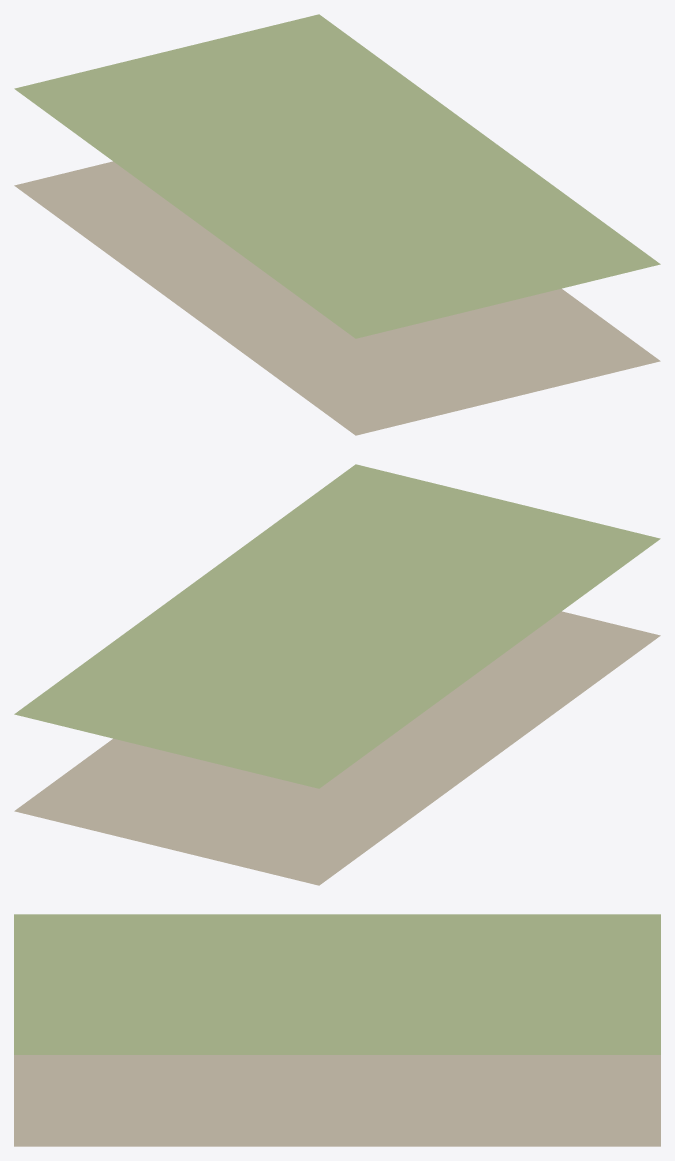
3 renders of one model, top to bottom at view 1: azimuth 30°, elevation 25°; view 2: azimuth 150°, elevation 25°; view 3: azimuth 270°, elevation 25°, orthographic. The views are drawn at different scales.
Visible parts, largest first — view 1: s_12_3__grass, s_12_3__soil; view 2: s_12_3__grass, s_12_3__soil; view 3: s_12_3__grass, s_12_3__soil.
Part boxes in pixels (x1,y1,x2,y2): s_12_3__grass: (14, 14, 660, 338); s_12_3__soil: (14, 161, 660, 435); s_12_3__grass: (14, 464, 660, 788); s_12_3__soil: (14, 611, 660, 885); s_12_3__grass: (14, 914, 660, 1054); s_12_3__soil: (14, 1055, 660, 1146).
Bounding box in the file's own units: 66 × 20.01 × 128.
